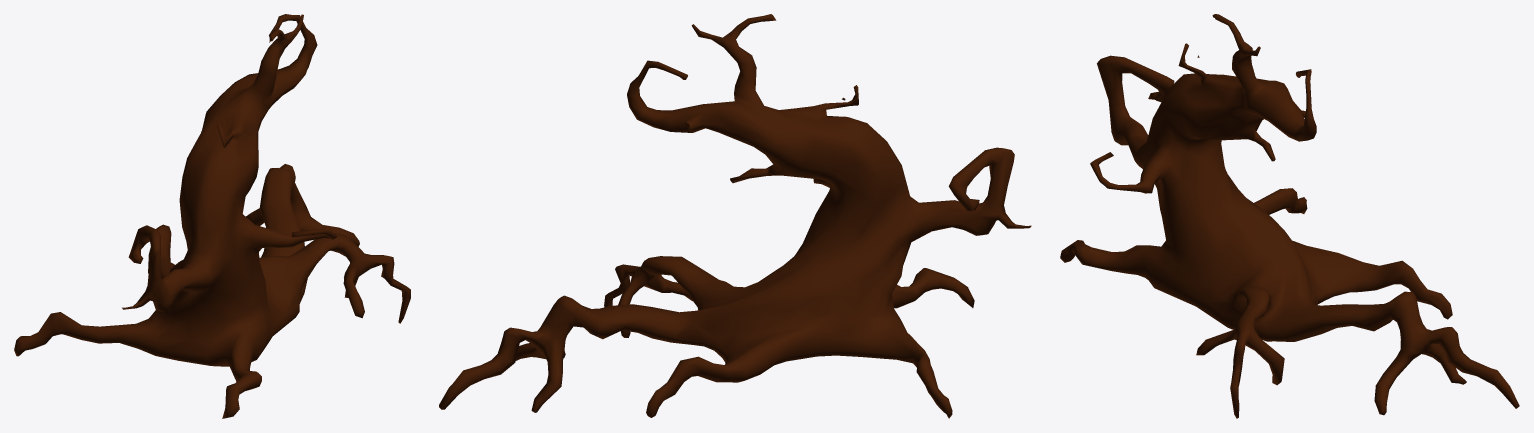
File: Tree.fbx
3 views of the same model, side by side, from view 1: azimuth 30°, elevation 25°; view 2: azimuth 150°, elevation 25°; view 3: azimuth 270°, elevation 25° (orthographic). The views are drawn at different scales.
Visible parts, largest first — view 1: Tree 2 2K; view 2: Tree 2 2K; view 3: Tree 2 2K.
Boxes of the visible parts, <box> form: Tree 2 2K: <box>14,14,410,418</box>; Tree 2 2K: <box>439,14,1031,418</box>; Tree 2 2K: <box>1060,14,1519,418</box>.
Bounding box in the file's own units: 589 × 483 × 598.
